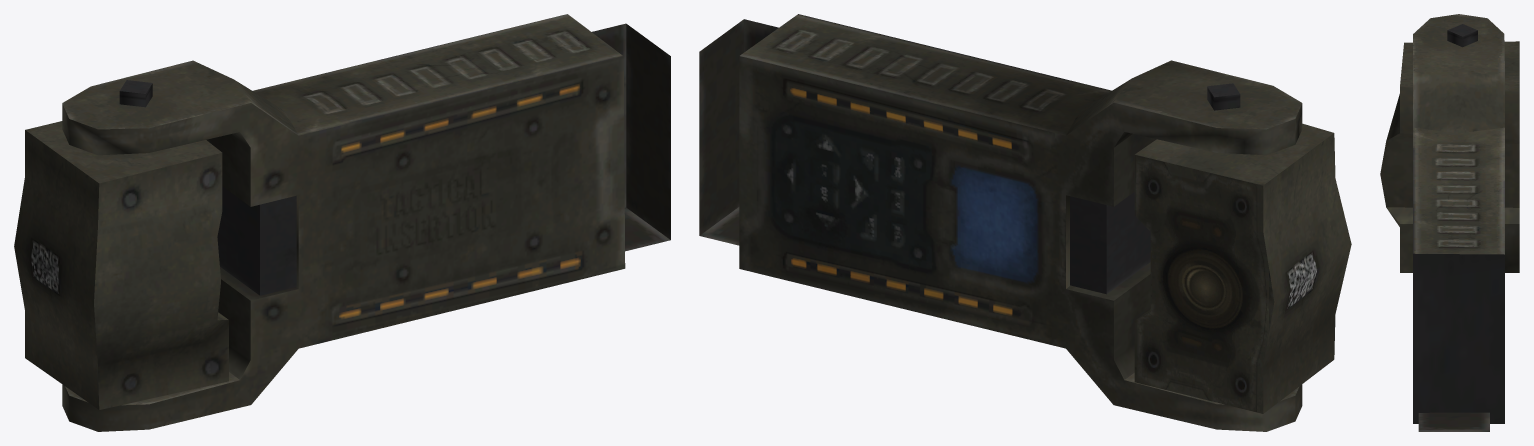
Rendered from t6_wpn_tac_insert_stow_LOD1.obj.
3 renders of one model, left to right at view 1: azimuth 30°, elevation 25°; view 2: azimuth 150°, elevation 25°; view 3: azimuth 270°, elevation 25°, orthographic. The views are drawn at different scales.
Visible parts, largest first — view 1: mtl_t6_wpn_tac_insert; view 2: mtl_t6_wpn_tac_insert; view 3: mtl_t6_wpn_tac_insert.
Part boxes in pixels (bbox=[...]): mtl_t6_wpn_tac_insert: bbox=[14, 14, 670, 431]; mtl_t6_wpn_tac_insert: bbox=[699, 14, 1351, 431]; mtl_t6_wpn_tac_insert: bbox=[1380, 14, 1519, 431].
Size of the model in its own units: 27.2 by 14.29 by 6.95.
